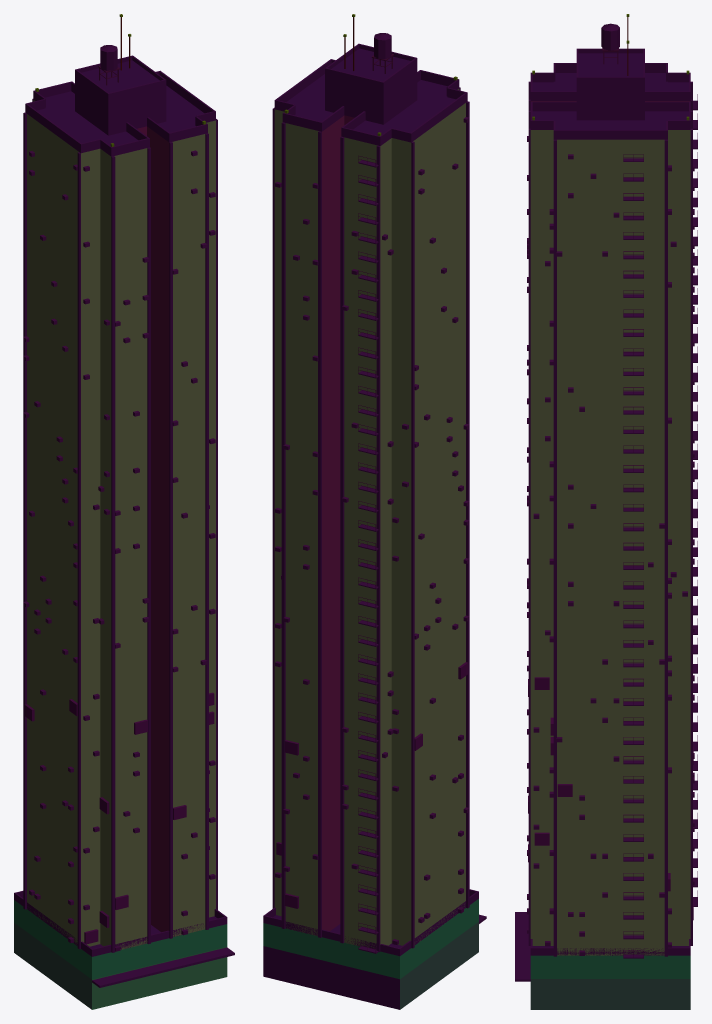
File: restower_a.glb
3 views of the same model, side by side, from view 1: azimuth 30°, elevation 25°; view 2: azimuth 150°, elevation 25°; view 3: azimuth 270°, elevation 25° (orthographic). The views are drawn at different scales.
Parts seen in each view (by area): view 1: restower_a; view 2: restower_a; view 3: restower_a.
Boxes of the visible parts, x1,y1,x2,y2 form: restower_a: (14,14,234,1009); restower_a: (263,14,486,1009); restower_a: (515,14,697,1009).
Size of the model in its own units: 23.95 by 149 by 25.59.
